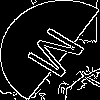M: (24, 25, 96, 85)
